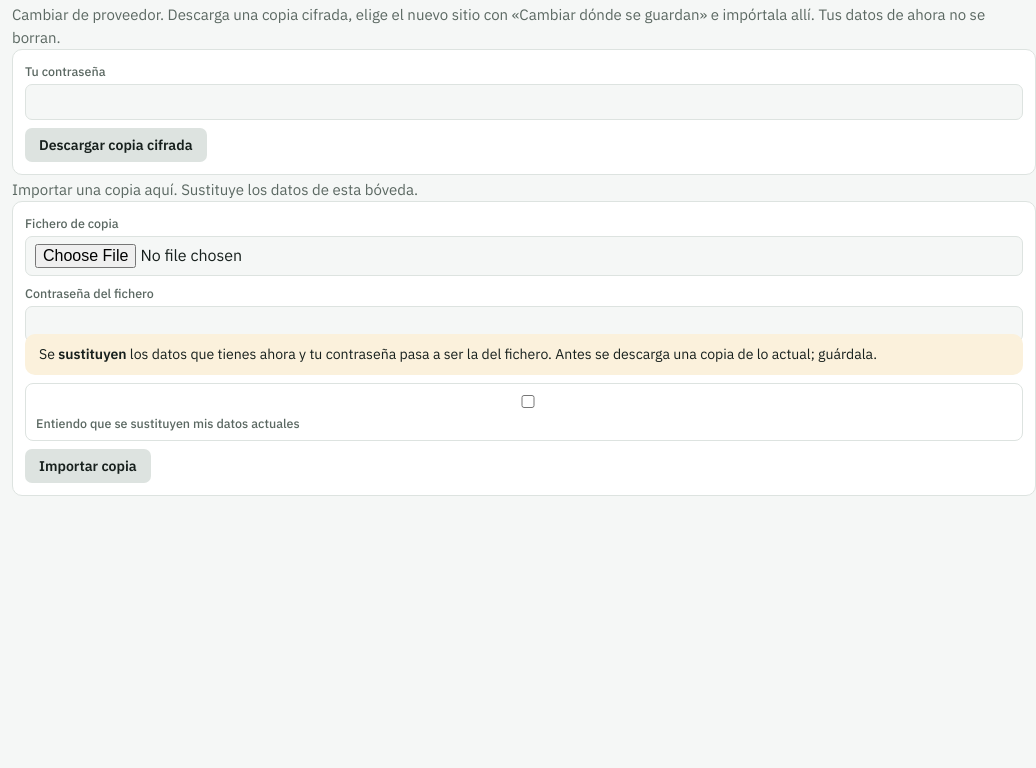
Test case: CopiaDatos › exporta un fichero cifrado: sin la contraseña ni los datos en claro
Type "correcta-123" into the password field labelled "Tu contraseña" at (524, 102), box [25,84,1023,120]
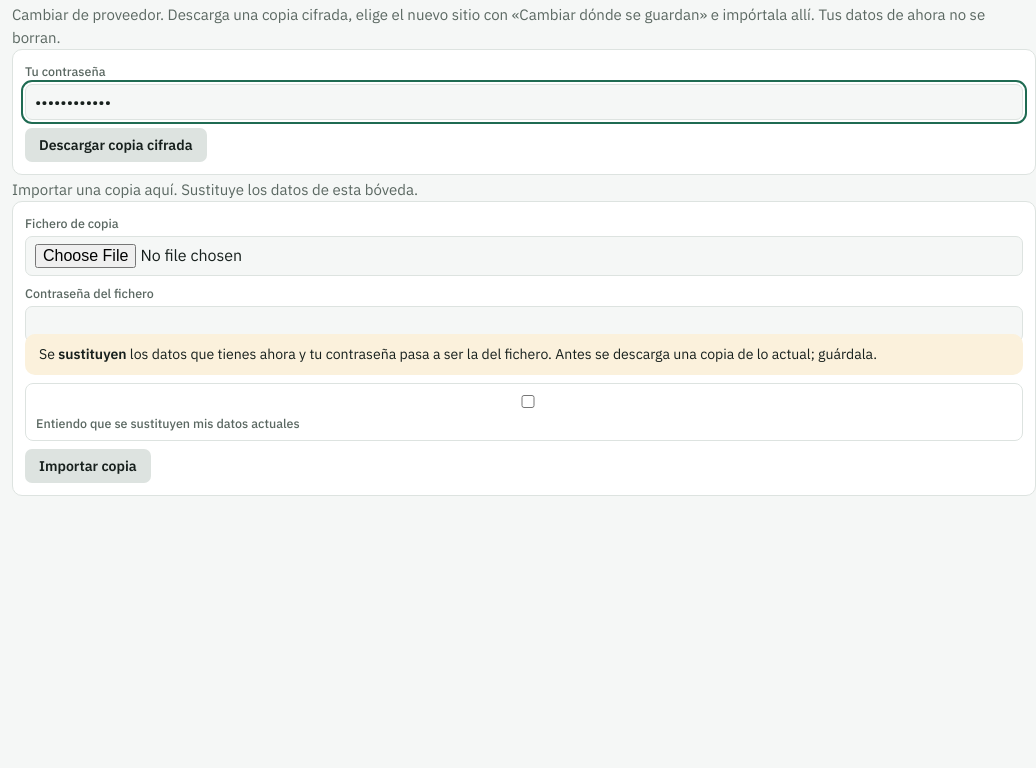
Click the button "Descargar copia cifrada" at (116, 145), box [25,128,206,162]
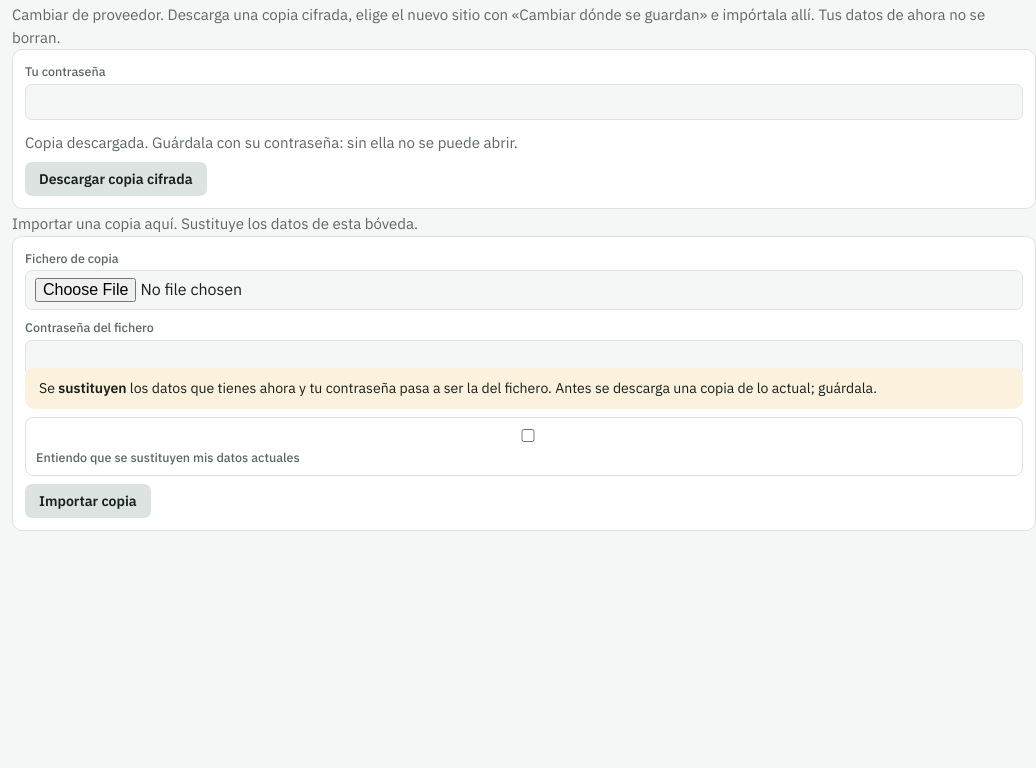
Now the message shows "Copia descargada", box [25,133,518,152]
